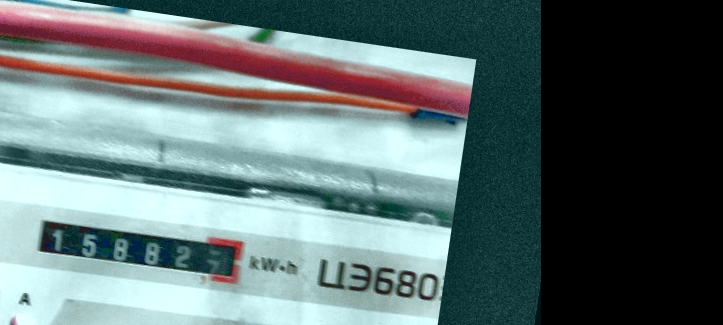1: (48, 227, 65, 253)
2: (173, 242, 192, 270)
5: (78, 231, 98, 258)
7: (203, 256, 220, 274)
8: (109, 236, 130, 262), (141, 238, 161, 265)
screen: (22, 203, 254, 295)
